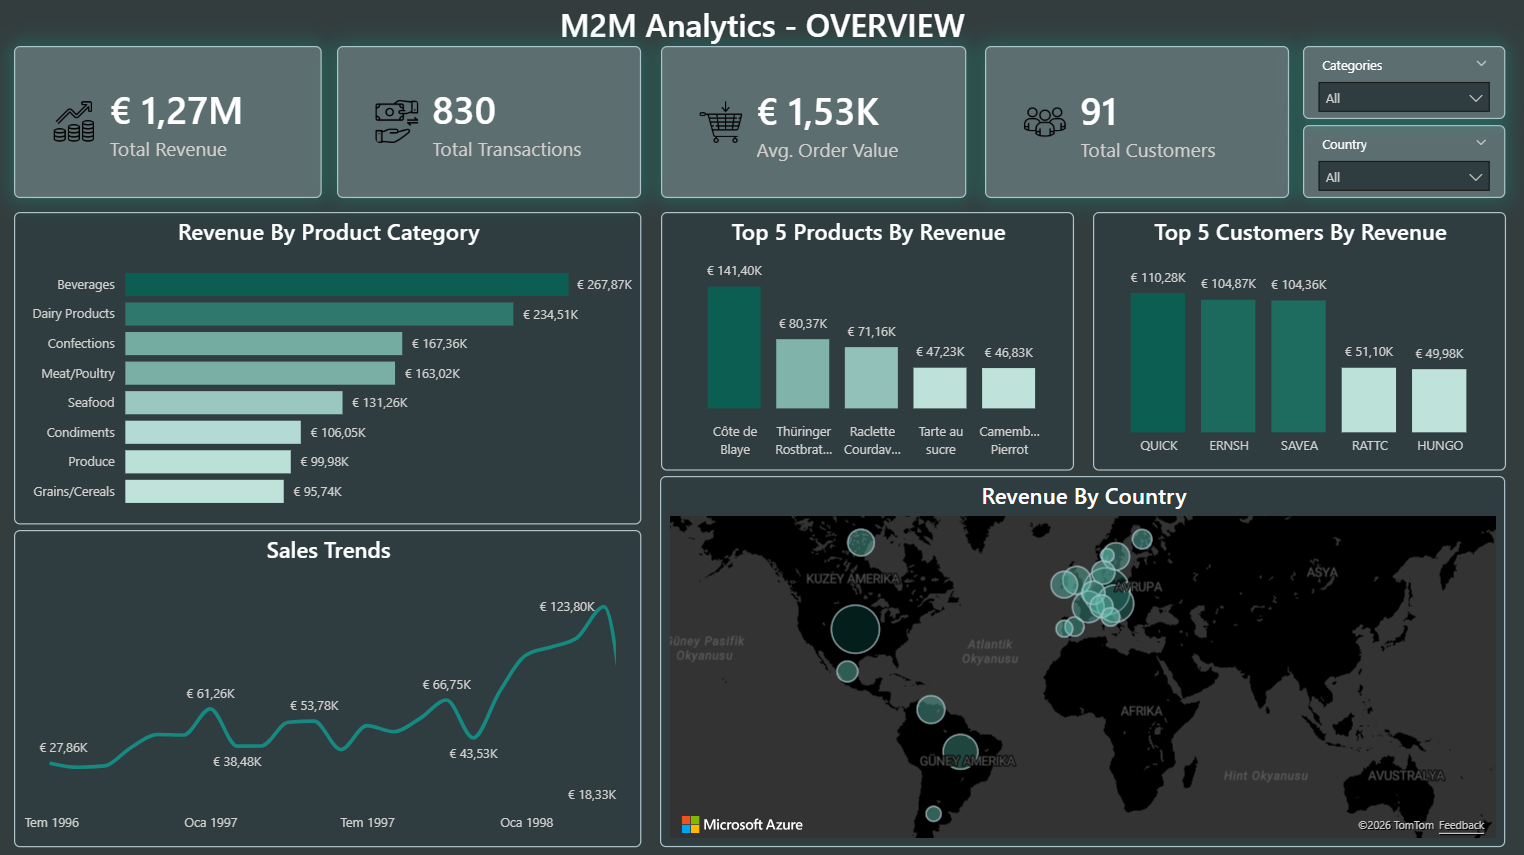

The page's visual inventory and layout, read from the dashboard file:
{"tool":"powerbi","page":{"name":"Overview","canvas":[1280,720],"ordinal":0},"visuals":[{"type":"cardVisual","fields":{"Data":["Metrics.Total_Revenue"]},"box":[12.7,42,256.9,126.9],"z":0,"group":"g1"},{"type":"cardVisual","fields":{"Data":["Metrics.Total_Transactions"]},"box":[282.7,42,254,126.7],"z":0,"group":"g2"},{"type":"cardVisual","fields":{"Data":["Metrics.Avg_Basket_Size"]},"box":[553.1,42,255.3,127.3],"z":0},{"type":"clusteredBarChart","title":"Revenue By Product Category","fields":{"Y":["Metrics.Total_Revenue"],"Category":["Categories.CategoryName"]},"box":[12.7,180,524,261.3],"z":1000},{"type":"textbox","box":[425.6,0,455,45.6],"z":2000},{"type":"lineChart","title":"Sales Trends","fields":{"Y":["Sum(SalesTrend_SQL.Revenue)"],"Category":["SalesTrend_SQL.Sales_Year_Month.Variation.Date Hierarchy.Year","SalesTrend_SQL.Sales_Year_Month.Variation.Date Hierarchy.Month"]},"box":[12.5,446.2,523.8,265],"z":3000},{"type":"group","id":"g1","title":"Group 1","box":[12.7,42,256.7,126.7],"z":4000},{"type":"group","id":"g2","title":"Group 1","box":[282.7,42,254,126.7],"z":5000},{"type":"azureMap","title":"Revenue By Country","fields":{"Category":["Customers.City","Customers.Country"],"Size":["Metrics.Total_Revenue"]},"box":[552.5,401.2,706.2,310],"z":6000},{"type":"cardVisual","fields":{"Data":["Measurements.Customer_Count"]},"box":[823.3,42,254,127.3],"z":7000},{"type":"slicer","fields":{"Values":["Customers.Country"]},"box":[1089.4,107.9,168.6,61.3],"z":8000},{"type":"clusteredColumnChart","title":"Top 5 Customers By Revenue","fields":{"Y":["Measurements.Total_Revenue"],"Category":["Customers.CustomerID"]},"box":[913.4,180.3,345,216],"z":9000},{"type":"clusteredColumnChart","title":"Top 5 Products By Revenue","fields":{"Y":["Measurements.Total_Revenue"],"Category":["Products.ProductName"]},"box":[552.9,180.3,345,216],"z":10000},{"type":"slicer","fields":{"Values":["Categories.CategoryName"]},"box":[1089.6,41.9,168.8,60.9],"z":11000}]}

Visuals, with their boxes in screenshot pixels (x1, y1, x2, y2), scaled from the page's 1280x720 canvas onto the 1524x855 screenshot:
cardVisual - Metrics.Total_Revenue: l=15, t=50, r=321, b=201
cardVisual - Metrics.Total_Transactions: l=337, t=50, r=639, b=200
cardVisual - Metrics.Avg_Basket_Size: l=659, t=50, r=963, b=201
"Revenue By Product Category" clusteredBarChart: l=15, t=214, r=639, b=524
textbox: l=507, t=0, r=1048, b=54
"Sales Trends" lineChart: l=15, t=530, r=639, b=845
"Group 1" group: l=15, t=50, r=321, b=200
"Group 1" group: l=337, t=50, r=639, b=200
"Revenue By Country" azureMap: l=658, t=476, r=1499, b=845
cardVisual - Measurements.Customer_Count: l=980, t=50, r=1283, b=201
slicer - Customers.Country: l=1297, t=128, r=1498, b=201
"Top 5 Customers By Revenue" clusteredColumnChart: l=1088, t=214, r=1498, b=471
"Top 5 Products By Revenue" clusteredColumnChart: l=658, t=214, r=1069, b=471
slicer - Categories.CategoryName: l=1297, t=50, r=1498, b=122
